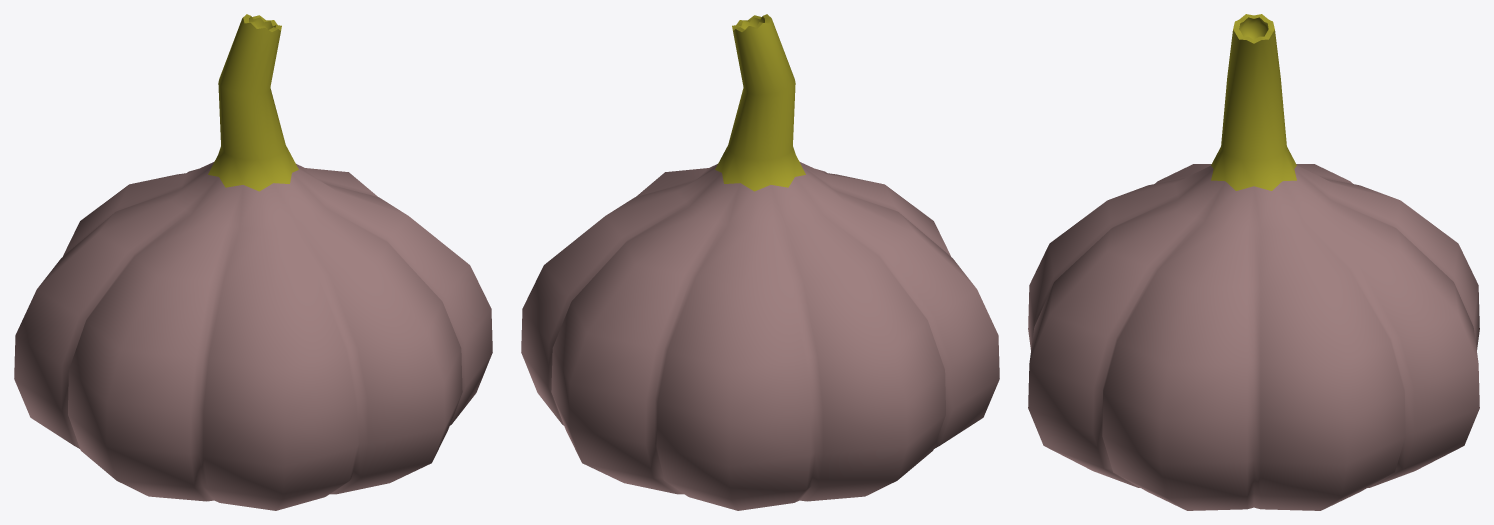
File: Garlic.fbx
The picture shows the model from 3 angles, left to right: view 1: azimuth 30°, elevation 25°; view 2: azimuth 150°, elevation 25°; view 3: azimuth 270°, elevation 25°; orthographic projection.
Parts seen in each view (by area): view 1: Garlic; view 2: Garlic; view 3: Garlic.
Part boxes in pixels (left/top/right/bottom): Garlic: left=14, top=14, right=492, bottom=510; Garlic: left=521, top=14, right=999, bottom=510; Garlic: left=1028, top=14, right=1479, bottom=510.
Bounding box in the file's own units: 28.72 × 28.72 × 32.1.
